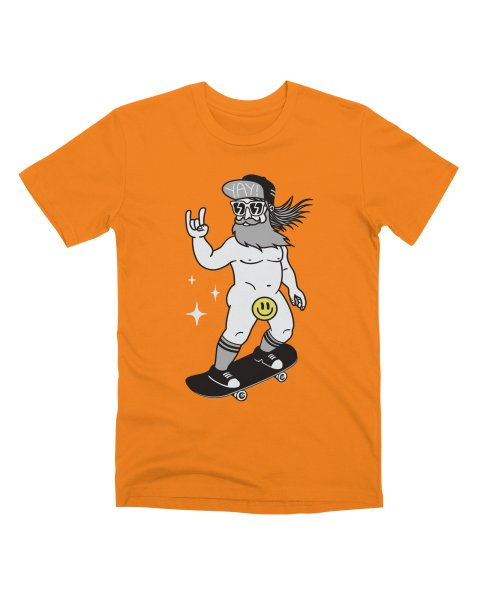design: (178, 168, 317, 406)
